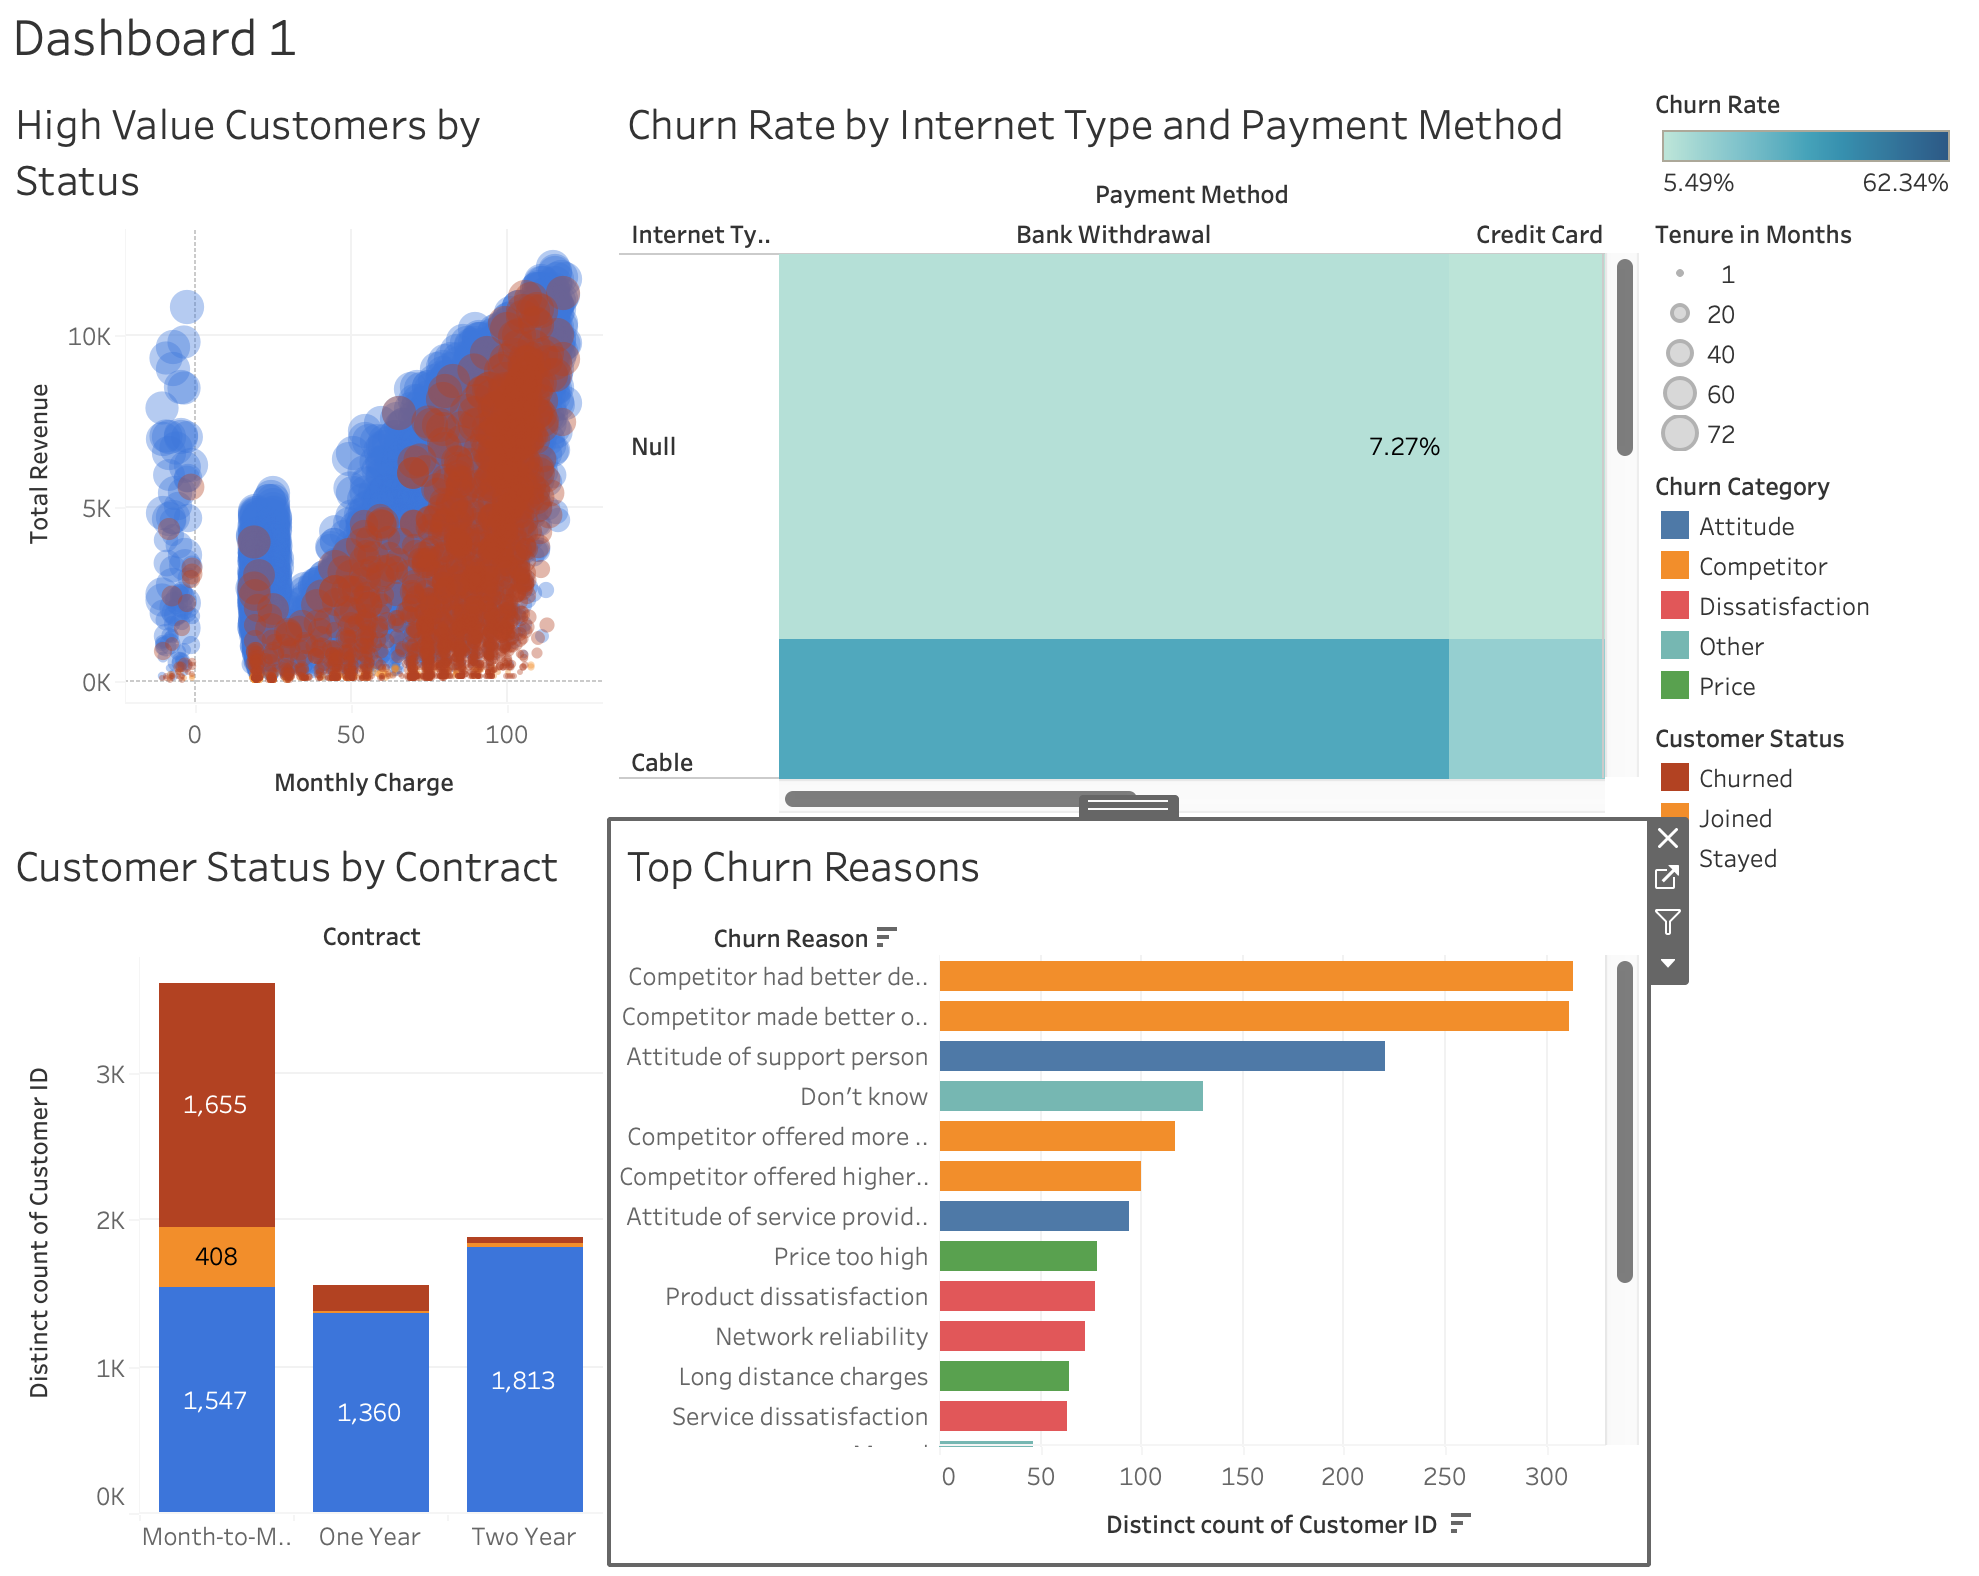

Layout of this report page (visuals, bound fields, positions):
{"tool":"tableau","page":{"name":"Dashboard 1","canvas":[1000,800],"ordinal":0},"visuals":[{"type":"title","box":[8,8,984,42]},{"type":"worksheet","title":"High Value Customers by Status","mark":"Circle","rows":["Total Revenue"],"cols":["Monthly Charge"],"box":[8,50,306,371]},{"type":"worksheet","title":"Churn Rate by Internet Type and Payment Method","mark":"Square","rows":["Internet Type"],"cols":["Payment Method"],"box":[314,50,518,371]},{"type":"legend","title":"Churn Rate by Internet Type and Payment Method","param":"[federated.0o9egcz14v08hj1dbx3h70p99b87].[usr:Calculation_4099987753234436:qk]","box":[832,50,160,65]},{"type":"legend","title":"High Value Customers by Status","param":"[federated.0o9egcz14v08hj1dbx3h70p99b87].[sum:Tenure in Months:qk]","box":[832,115,160,126]},{"type":"legend","title":"Top Churn Reasons","param":"[federated.0o9egcz14v08hj1dbx3h70p99b87].[none:Churn Category:nk]","box":[832,241,160,126]},{"type":"legend","title":"Customer Status by Contract","param":"[federated.0o9egcz14v08hj1dbx3h70p99b87].[none:Customer Status:nk]","box":[832,367,160,86]},{"type":"worksheet","title":"Customer Status by Contract","mark":"Bar","rows":["Customer ID"],"cols":["Contract"],"box":[8,421,306,371]},{"type":"worksheet","title":"Top Churn Reasons","mark":"Automatic","rows":["Churn Reason"],"cols":["Customer ID"],"box":[314,421,518,371]}]}

Visuals, with their boxes in screenshot pixels (x1, y1, x2, y2), scaled from the page's 1000x800 canvas onto the 1979x1576 screenshot:
title: (16,16,1963,98)
"High Value Customers by Status" worksheet (Circle marks): (16,98,621,829)
"Churn Rate by Internet Type and Payment Method" worksheet (Square marks): (621,98,1647,829)
"Churn Rate by Internet Type and Payment Method" legend: (1647,98,1963,227)
"High Value Customers by Status" legend: (1647,227,1963,475)
"Top Churn Reasons" legend: (1647,475,1963,723)
"Customer Status by Contract" legend: (1647,723,1963,892)
"Customer Status by Contract" worksheet (Bar marks): (16,829,621,1560)
"Top Churn Reasons" worksheet: (621,829,1647,1560)
